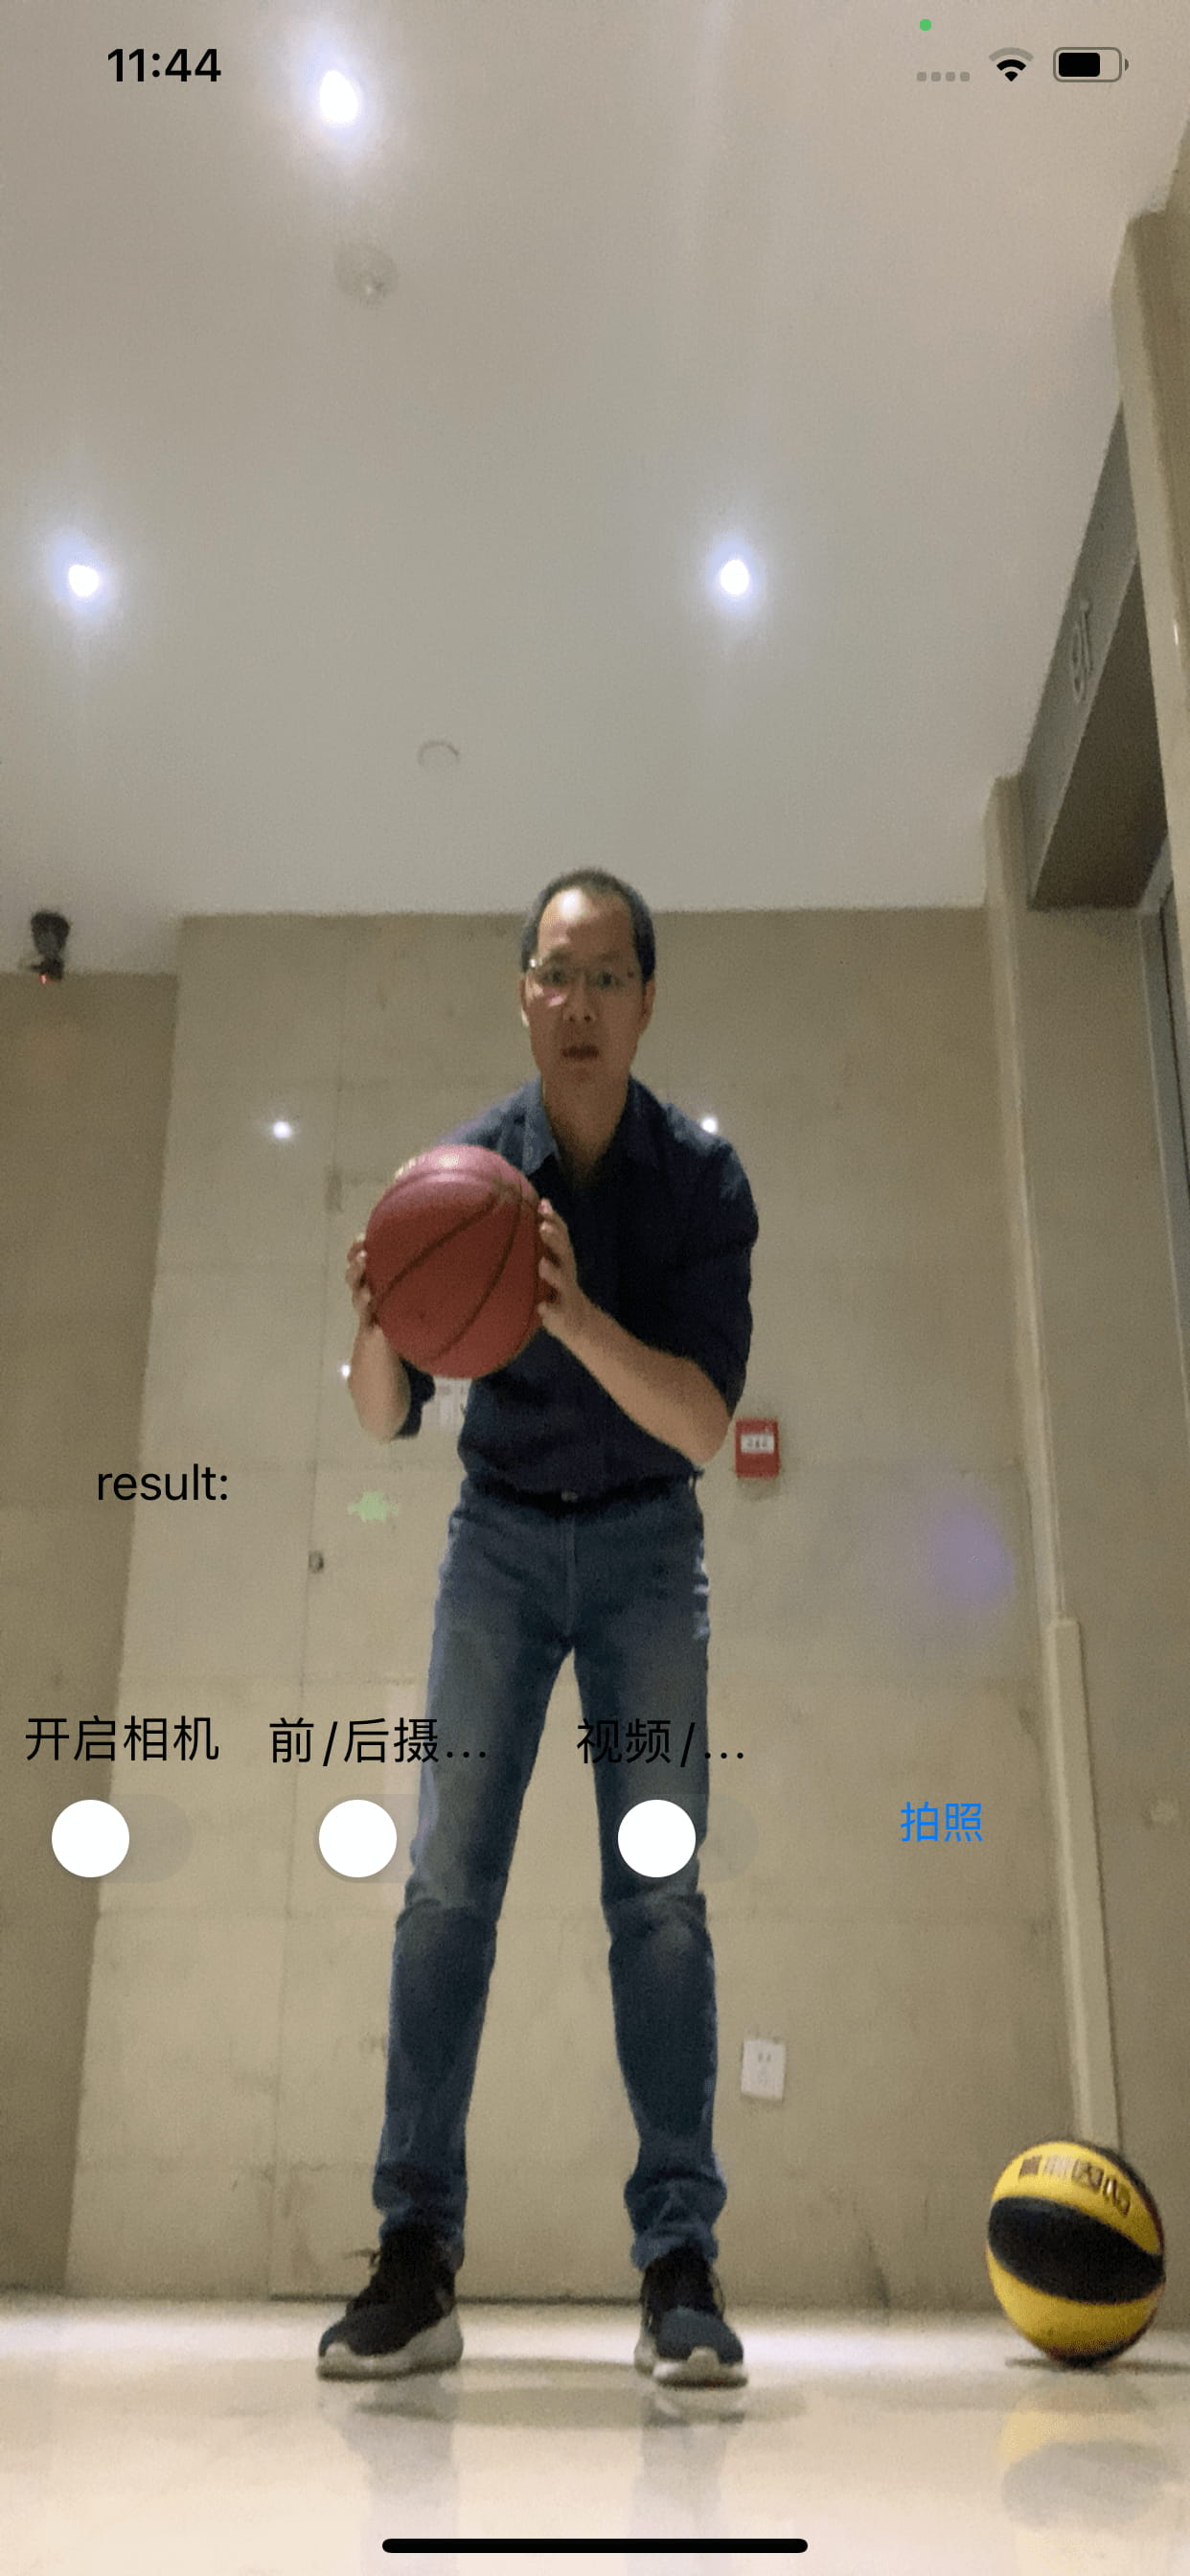ball: (362, 1142, 559, 1380), (991, 2139, 1162, 2361)
